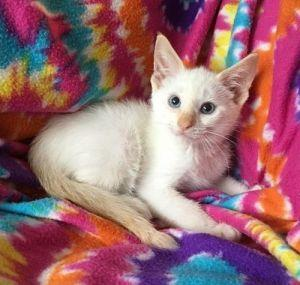siamese: (145, 26, 265, 150)
